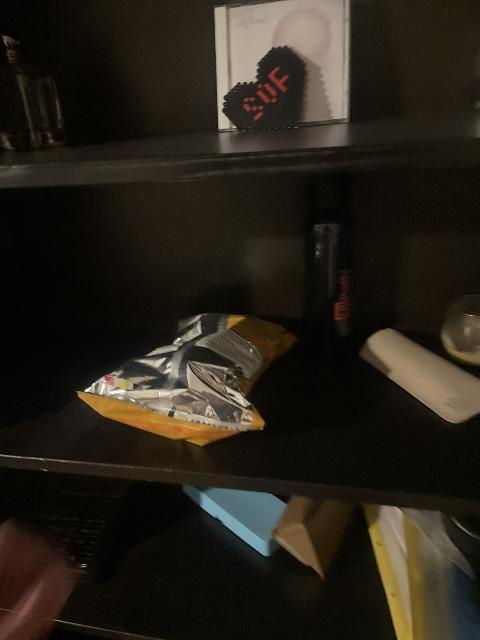Chio Hula Hoops Cheese 70g: (76, 314, 298, 444)
